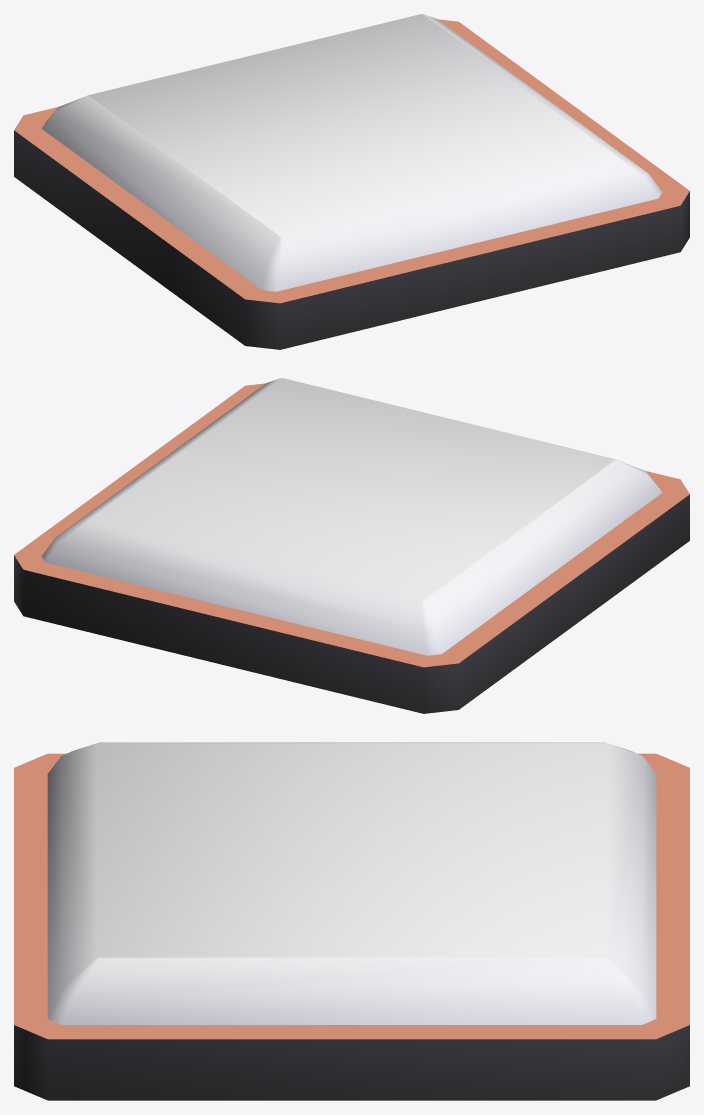
Rendered from button-floor-square.obj.
The picture shows the model from 3 angles, top to bottom: view 1: azimuth 30°, elevation 25°; view 2: azimuth 150°, elevation 25°; view 3: azimuth 270°, elevation 25°; orthographic projection. The views are drawn at different scales.
Parts seen in each view (by area): view 1: button, button-floor-square; view 2: button, button-floor-square; view 3: button, button-floor-square.
Part boxes in pixels (box(x1,y1,x2,y2)): button: box(41, 14, 662, 291); button-floor-square: box(14, 19, 689, 349); button: box(41, 378, 662, 655); button-floor-square: box(14, 383, 689, 713); button: box(47, 742, 656, 1024); button-floor-square: box(14, 753, 689, 1100).
Bounding box in the file's own units: 1 × 0.175 × 1.
